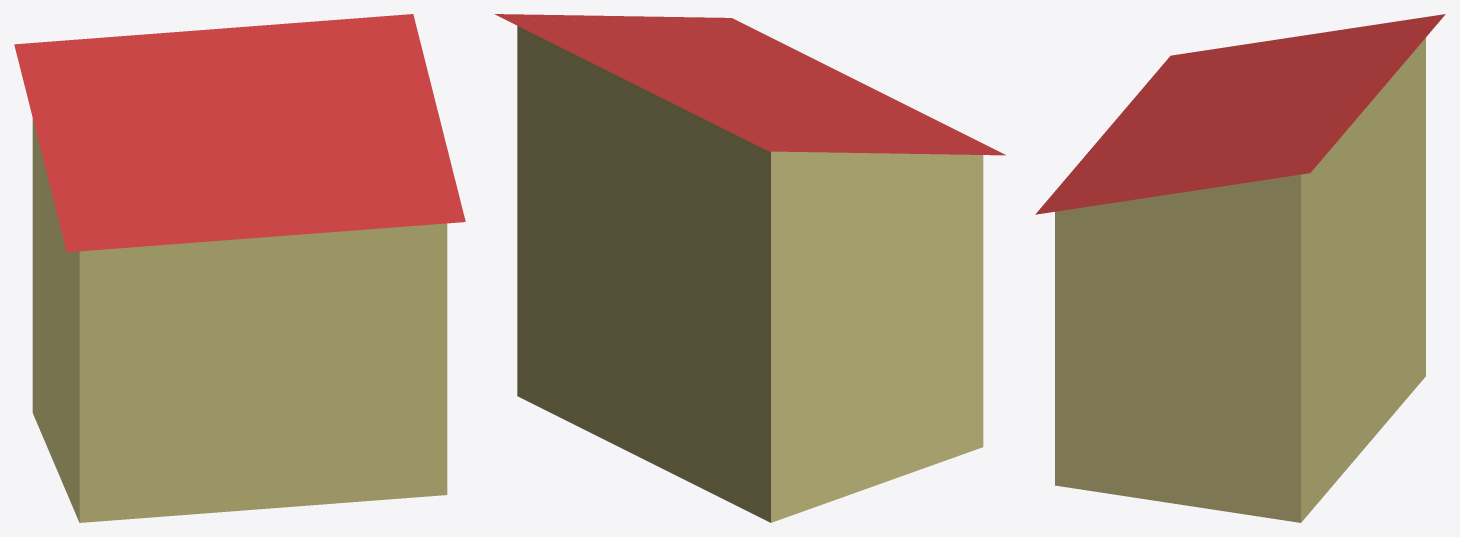
3 renders of one model, left to right at view 1: azimuth 30°, elevation 25°; view 2: azimuth 150°, elevation 25°; view 3: azimuth 270°, elevation 25°, orthographic. The views are drawn at different scales.
Bounding box in the file's own units: 7.61 × 6.57 × 6.32.
